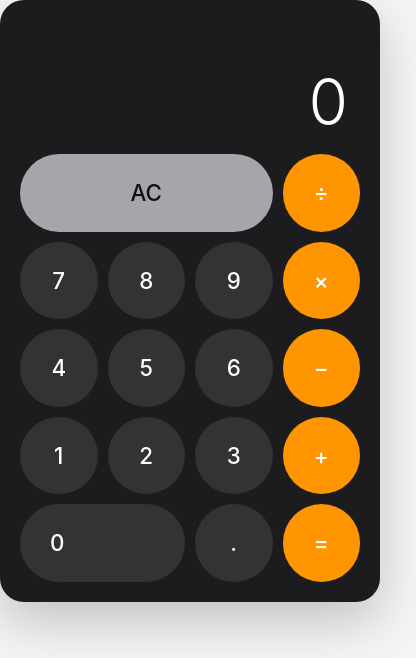
Scenario: Calculator › allows decimal numbers
Click the button "1" at (59, 455), box [20,416,98,494]
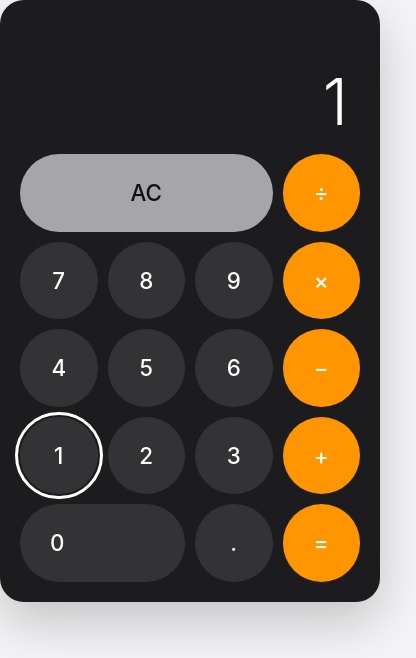
Click the button "." at (234, 543), box [195,504,272,582]
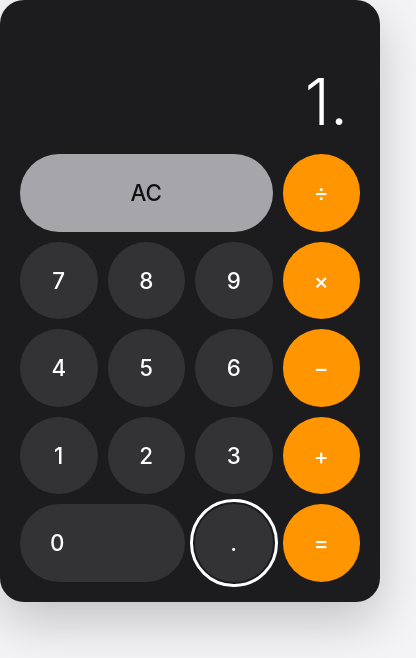
Click the button "5" at (146, 368), box [108,329,185,406]
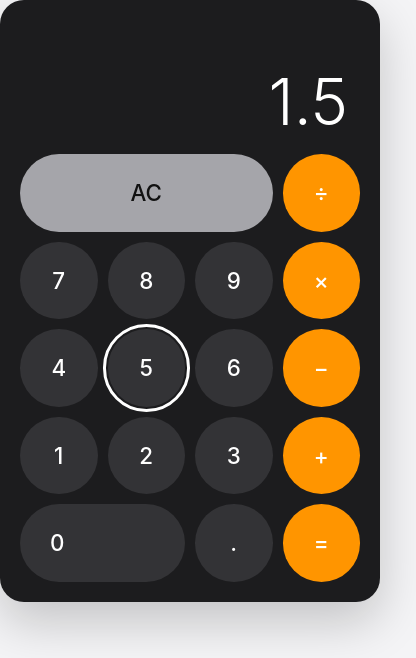
Check: the text named "Calculator display" reads "1.5", box [269,63,348,140]
